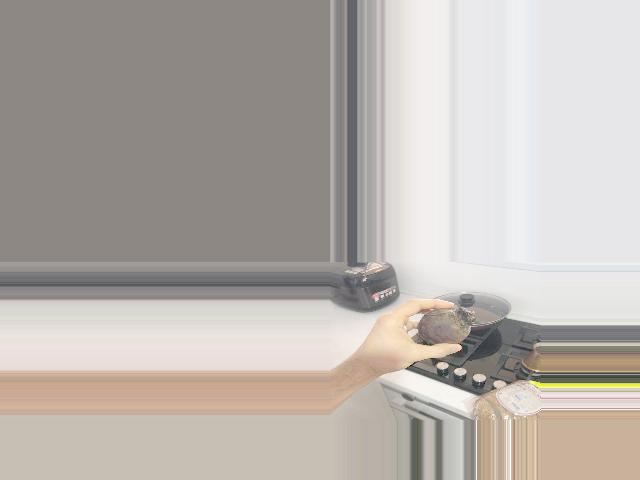beet: (415, 308, 475, 344)
